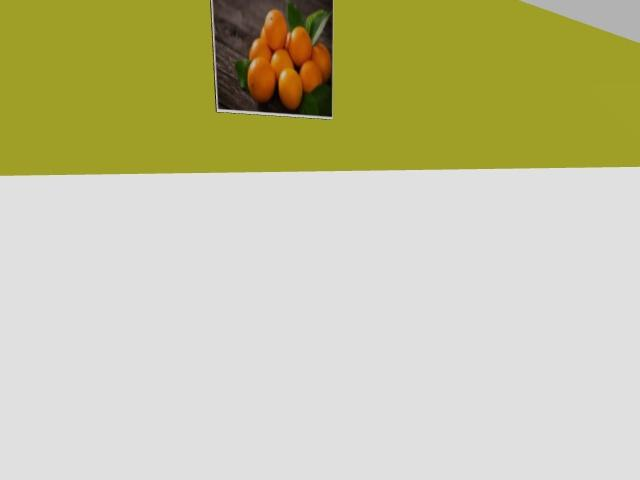orange: (247, 57, 276, 102), (278, 67, 302, 110), (288, 27, 312, 67), (264, 9, 287, 50), (311, 43, 331, 82), (299, 60, 322, 92), (271, 49, 293, 77), (249, 38, 271, 61), (259, 26, 266, 40), (285, 32, 290, 50)
